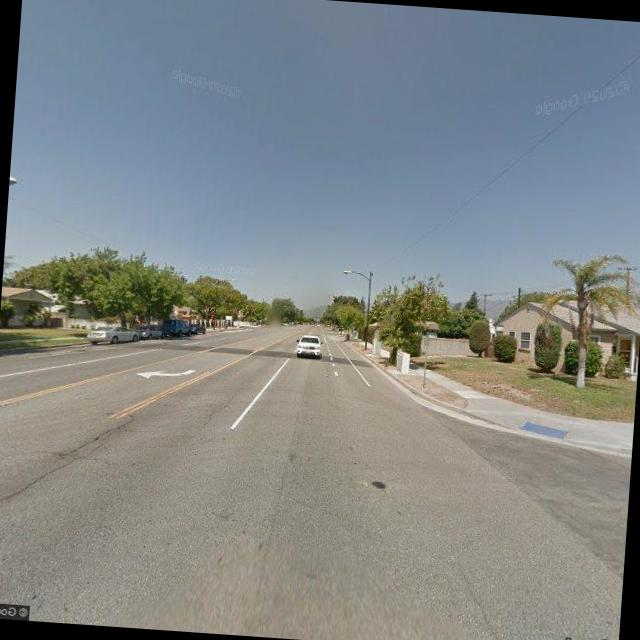pothole: (0, 445, 83, 517), (61, 412, 140, 461)
